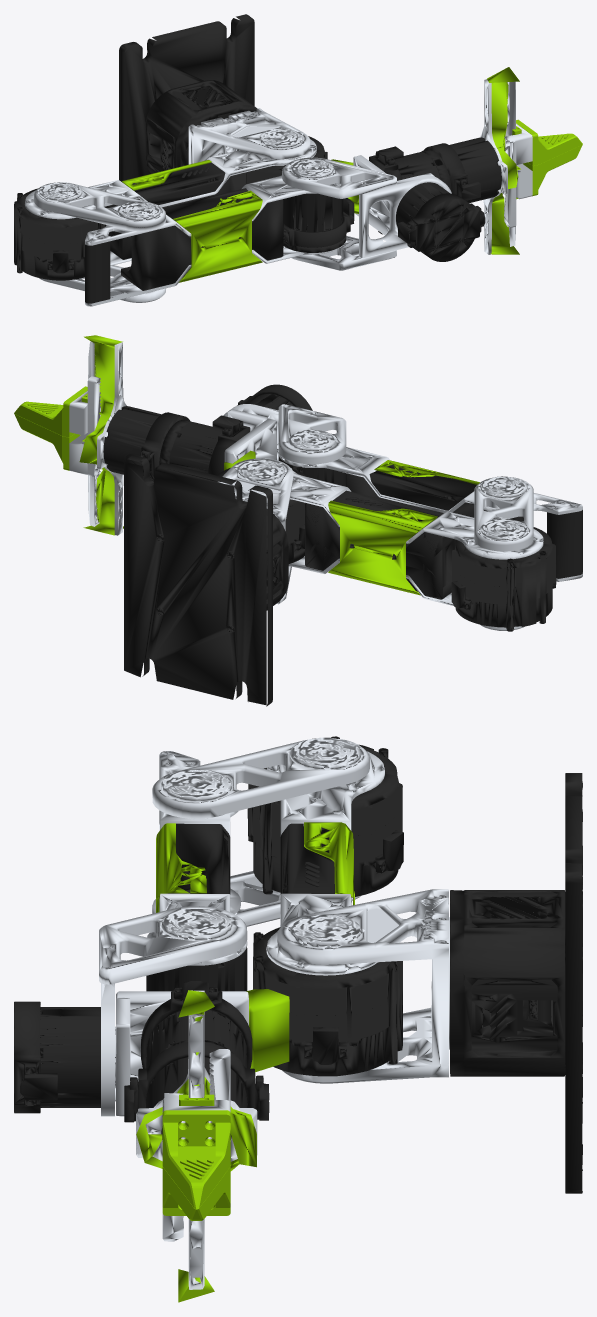
The model's file is rebot_arm_lite.glb.
3 renders of one model, top to bottom at view 1: azimuth 30°, elevation 25°; view 2: azimuth 150°, elevation 25°; view 3: azimuth 270°, elevation 25°, orthographic. The views are drawn at different scales.
Visible parts, largest first — view 1: base_link, cnc3, pla3_black_without_seeed_badge, cnc4, motor_2_3, motor_5, pla3_green, link1, motor_4, motor_7, pla2_black, cnc2 (+10 smaller); view 2: base_link, motor_2_3, cnc3, pla2_green, pla2_black, pla3_black_without_seeed_badge, cnc4, cnc2, motor_7, pla7_green, motor_6, link1 (+10 smaller); view 3: base_link, motor_2_3, cnc3, link1, cnc4, motor_5, cnc2, pla_right, motor_7, motor_6, cnc7, cnc5 (+10 smaller).
Boxes of the visible parts, x1=… form: base_link: x1=119, y1=14, x2=256, y2=182; cnc3: x1=34, y1=175, x2=341, y2=306; pla3_black_without_seeed_badge: x1=85, y1=188, x2=283, y2=303; cnc4: x1=282, y1=157, x2=451, y2=270; motor_2_3: x1=14, y1=136, x2=327, y2=280; motor_5: x1=396, y1=182, x2=485, y2=261; pla3_green: x1=173, y1=190, x2=262, y2=282; link1: x1=188, y1=108, x2=310, y2=164; motor_4: x1=283, y1=186, x2=354, y2=252; motor_7: x1=421, y1=137, x2=501, y2=203; pla2_black: x1=105, y1=162, x2=246, y2=259; cnc2: x1=25, y1=139, x2=316, y2=265; base_link: x1=124, y1=455, x2=288, y2=706; motor_2_3: x1=213, y1=466, x2=556, y2=631; cnc3: x1=278, y1=447, x2=582, y2=630; pla2_green: x1=328, y1=500, x2=437, y2=595; pla2_black: x1=305, y1=490, x2=456, y2=599; pla3_black_without_seeed_badge: x1=345, y1=464, x2=582, y2=578; cnc4: x1=223, y1=404, x2=346, y2=464; cnc2: x1=224, y1=471, x2=543, y2=605; motor_7: x1=103, y1=406, x2=190, y2=481; pla7_green: x1=79, y1=335, x2=123, y2=535; motor_6: x1=169, y1=415, x2=250, y2=480; link1: x1=218, y1=458, x2=293, y2=604; base_link: x1=450, y1=773, x2=582, y2=1193; motor_2_3: x1=247, y1=736, x2=403, y2=1076; cnc3: x1=147, y1=737, x2=369, y2=965; link1: x1=277, y1=889, x2=449, y2=1083; cnc4: x1=99, y1=906, x2=247, y2=1116; motor_5: x1=14, y1=1001, x2=100, y2=1113; cnc2: x1=266, y1=751, x2=384, y2=975; pla_right: x1=162, y1=1094, x2=230, y2=1209; motor_7: x1=124, y1=1042, x2=269, y2=1139; motor_6: x1=141, y1=981, x2=252, y2=1068; cnc7: x1=136, y1=990, x2=257, y2=1289; cnc5: x1=115, y1=991, x2=248, y2=1116.
Bounding box in the file's own units: 0.5613 × 0.2 × 0.3207.
